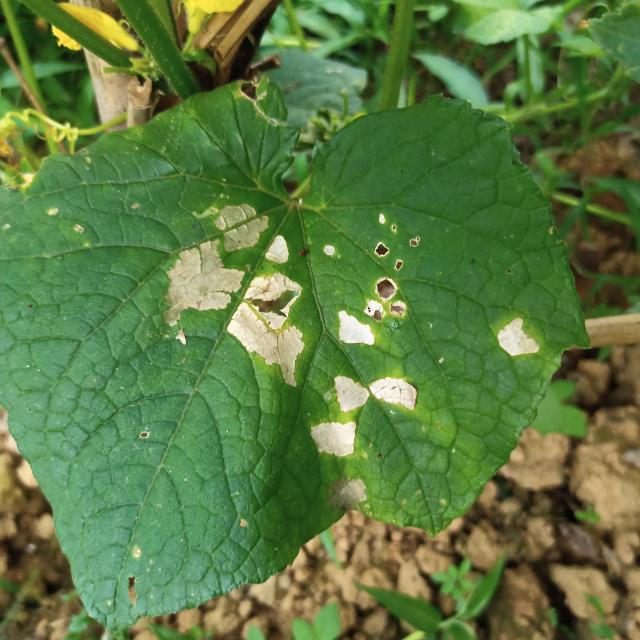disease_cucumber: (160, 202, 306, 394), (318, 206, 424, 352), (308, 368, 420, 464), (490, 315, 542, 362)
